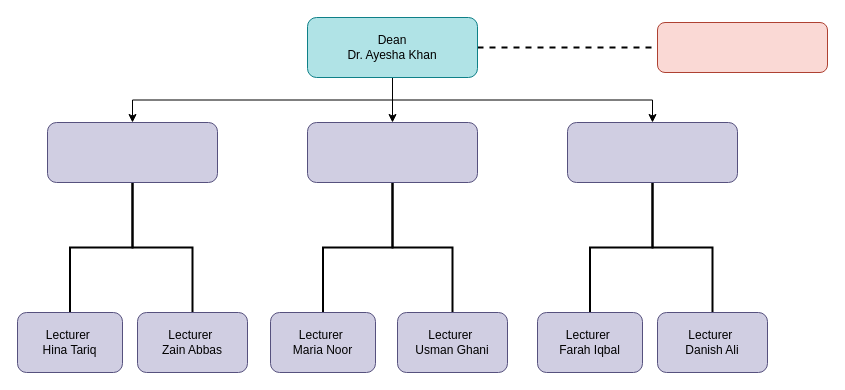
The diagram is 845 pixels wide and 390 high, and some of its shapes have lost their labels. Here are the shapes that lost their labels. From the top down, the centre of each, then its label:
At [742,47]: "Lab Coordinator Mr. Bilal Ahmed".
At [132,152]: "Head of Computer Science Dr. Ali Raza".
At [392,152]: "Head of Software Engineering Dr. Sara Malik".
At [652,152]: "Head of Information Technology Dr. Omar Siddiqui".
